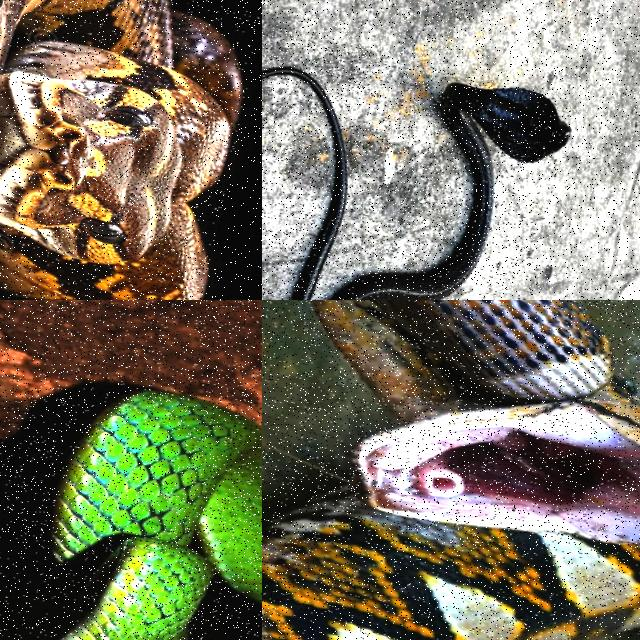Malayopython reticulatus: (314, 300, 639, 545)
Naja siamensis: (332, 83, 569, 299)
Python bivittatus: (0, 0, 240, 299)
Trimeresurus macrops: (49, 389, 261, 639)
snake: (314, 300, 639, 545), (0, 0, 240, 299), (49, 389, 261, 639), (332, 83, 569, 299)
